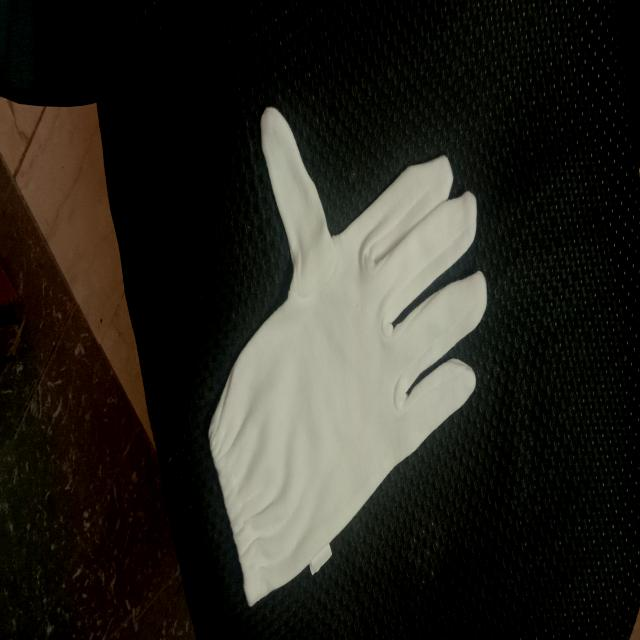glove: (206, 99, 491, 610)
